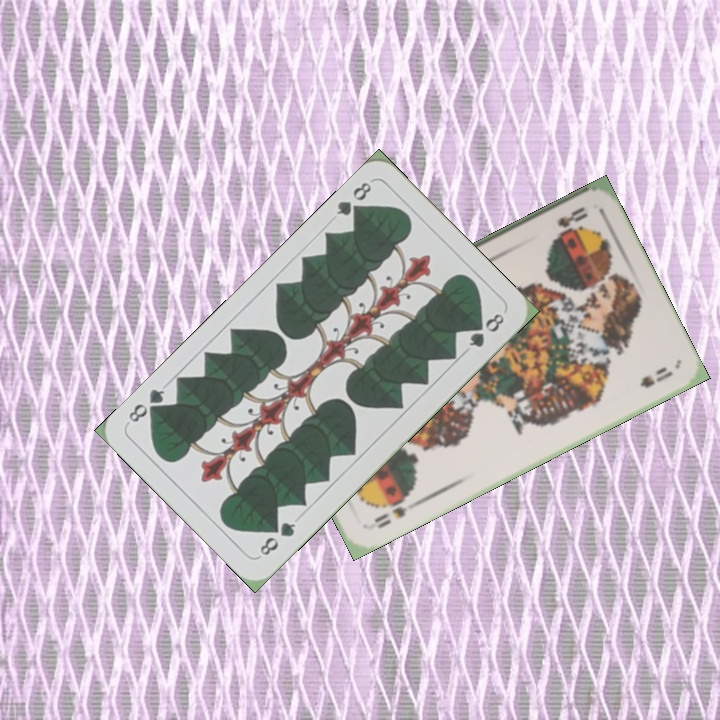G8: (253, 517, 298, 559), (332, 178, 374, 222)
SO: (552, 202, 590, 238), (370, 502, 410, 531)
